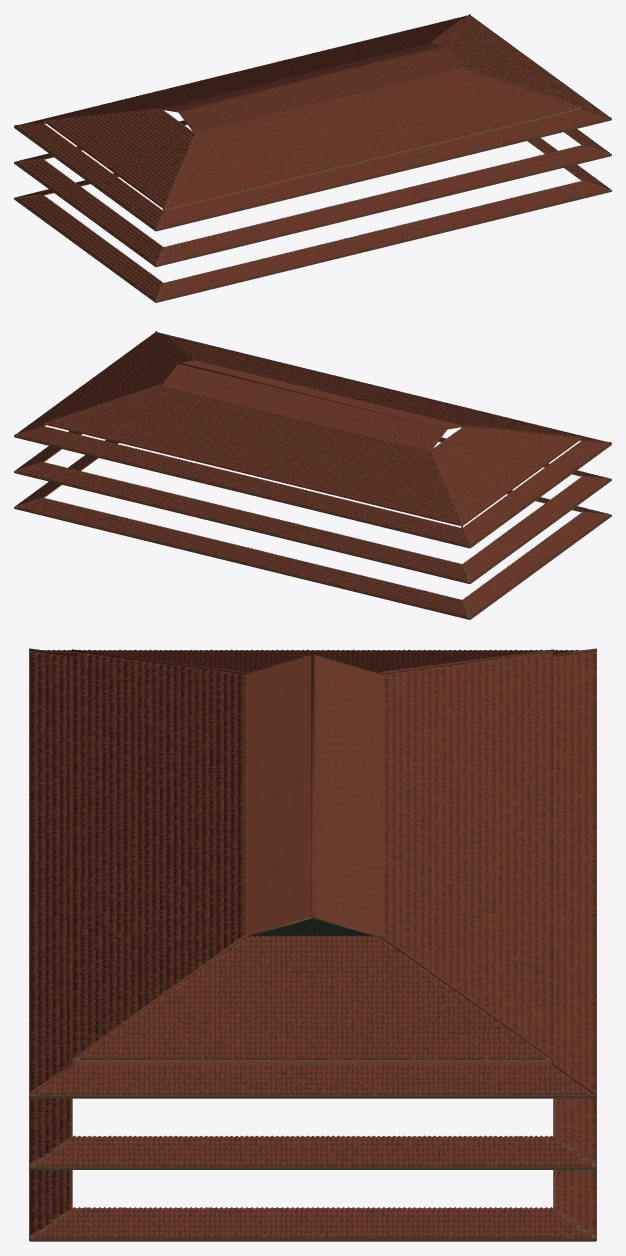
File: cubiertas.glb
3 views of the same model, one above another, from view 1: azimuth 30°, elevation 25°; view 2: azimuth 150°, elevation 25°; view 3: azimuth 270°, elevation 25° (orthographic). The views are drawn at different scales.
Visible parts, largest first — view 1: Clay terracotta 04, Clay terracotta 03, Clay terracotta 06, Clay terracotta 00, Clay terracotta 08, Clay terracotta 02, Clay terracotta 07, Clay terracotta 01, Clay terracotta 05, Dark stained roof timber, Clay-colored vertical attic fascia; view 2: Clay terracotta 04, Clay terracotta 07, Clay terracotta 08, Clay terracotta 03, Clay terracotta 02, Clay terracotta 06, Clay terracotta 01, Clay terracotta 00, Clay terracotta 05, Dark stained roof timber; view 3: Clay terracotta 04, Clay terracotta 02, Clay terracotta 07, Clay terracotta 01, Clay terracotta 08, Clay terracotta 06, Clay terracotta 03, Clay terracotta 00, Clay terracotta 05, Dark stained roof timber, Clay-colored vertical attic fascia, Dark ventilation recess.
Boxes of the visible parts, bbox=[...] form: Clay terracotta 04: bbox=[14, 14, 611, 298]; Clay terracotta 03: bbox=[16, 18, 609, 299]; Clay terracotta 06: bbox=[17, 17, 607, 299]; Clay terracotta 00: bbox=[20, 16, 609, 299]; Clay terracotta 08: bbox=[16, 15, 607, 297]; Clay terracotta 02: bbox=[16, 15, 607, 300]; Clay terracotta 07: bbox=[16, 16, 605, 298]; Clay terracotta 01: bbox=[15, 17, 604, 300]; Clay terracotta 05: bbox=[19, 16, 607, 299]; Dark stained roof timber: bbox=[14, 15, 611, 302]; Clay-colored vertical attic fascia: bbox=[44, 107, 581, 210]; Clay terracotta 04: bbox=[14, 331, 611, 614]; Clay terracotta 07: bbox=[19, 333, 609, 617]; Clay terracotta 08: bbox=[18, 334, 610, 615]; Clay terracotta 03: bbox=[16, 334, 610, 616]; Clay terracotta 02: bbox=[18, 335, 607, 616]; Clay terracotta 06: bbox=[16, 332, 608, 616]; Clay terracotta 01: bbox=[18, 335, 609, 614]; Clay terracotta 00: bbox=[16, 333, 608, 612]; Clay terracotta 05: bbox=[19, 332, 608, 617]; Dark stained roof timber: bbox=[14, 332, 611, 619]; Clay terracotta 04: bbox=[29, 648, 596, 1238]; Clay terracotta 02: bbox=[30, 649, 595, 1238]; Clay terracotta 07: bbox=[30, 650, 595, 1238]; Clay terracotta 01: bbox=[30, 650, 595, 1238]; Clay terracotta 08: bbox=[30, 649, 595, 1238]; Clay terracotta 06: bbox=[30, 649, 595, 1238]; Clay terracotta 03: bbox=[30, 649, 595, 1238]; Clay terracotta 00: bbox=[30, 649, 595, 1238]; Clay terracotta 05: bbox=[30, 649, 595, 1238]; Dark stained roof timber: bbox=[29, 650, 596, 1241]; Clay-colored vertical attic fascia: bbox=[74, 1060, 551, 1064]; Dark ventilation recess: bbox=[253, 918, 372, 936].
Size of the model in its own units: 48.8 by 11.99 by 26.31.
